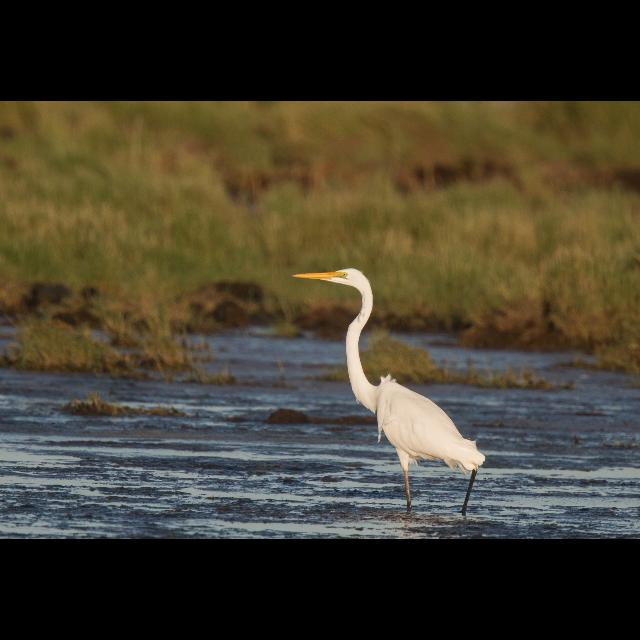egret: (277, 263, 495, 521)
